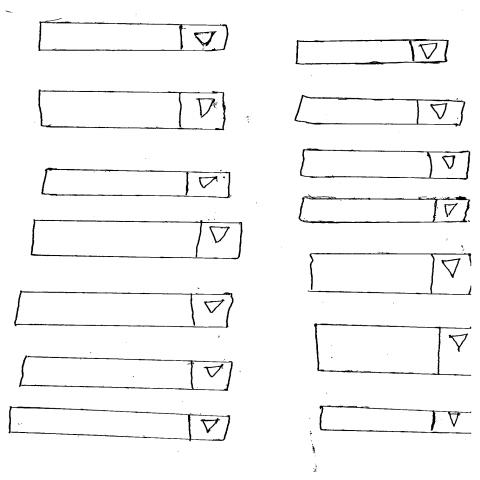Select: (13, 292, 235, 330), (17, 356, 236, 392), (7, 407, 232, 442), (39, 91, 228, 132), (39, 167, 232, 200), (36, 22, 231, 53), (297, 149, 472, 181), (294, 97, 467, 128), (298, 196, 473, 225), (295, 39, 452, 67)
